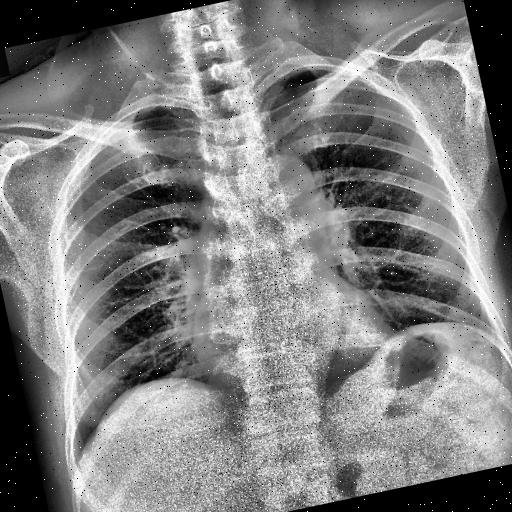0- Aortic enlargement: (242, 151, 326, 240), (248, 148, 326, 233), (256, 150, 318, 208)
